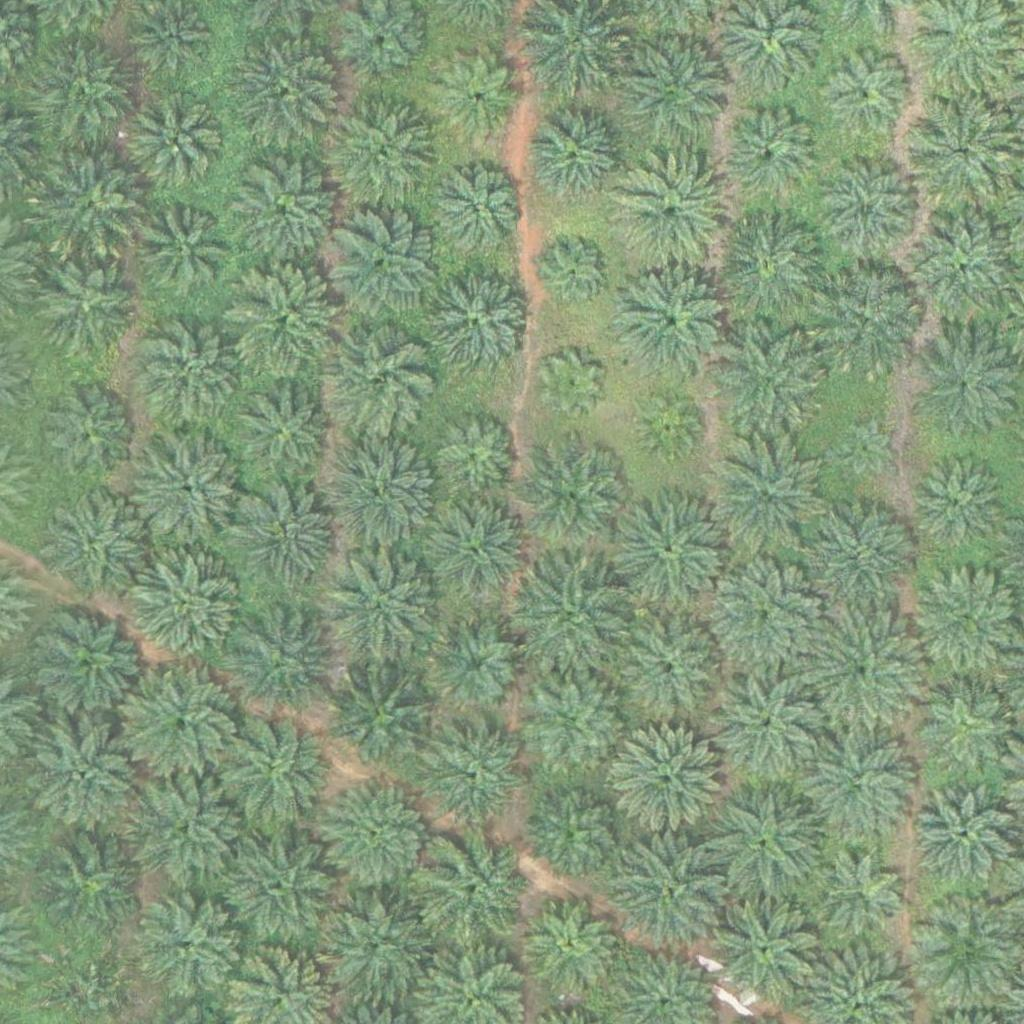Kelapa_Sawit: (910, 333, 1023, 447), (329, 661, 442, 775), (37, 486, 150, 600), (214, 713, 327, 827), (321, 779, 434, 893), (419, 832, 532, 946), (233, 39, 346, 152), (228, 158, 341, 271), (522, 96, 635, 209), (614, 158, 727, 271), (903, 95, 1016, 208), (908, 214, 1021, 327), (707, 435, 820, 548), (711, 558, 824, 671), (616, 269, 729, 382), (613, 495, 726, 608), (321, 324, 434, 437), (325, 437, 438, 550), (326, 552, 439, 665), (226, 262, 339, 375), (228, 382, 341, 495), (29, 607, 142, 720), (28, 722, 141, 835), (31, 828, 144, 941), (317, 892, 430, 1005), (613, 725, 726, 838), (706, 670, 819, 783), (709, 784, 822, 897), (710, 889, 823, 1002), (619, 31, 731, 145), (716, 99, 828, 213), (810, 268, 922, 382), (713, 211, 825, 325), (224, 601, 336, 715), (134, 432, 246, 546), (130, 553, 242, 667), (34, 46, 146, 159), (323, 96, 435, 209), (911, 566, 1023, 679), (805, 500, 917, 613), (807, 613, 919, 726), (716, 324, 828, 437), (613, 614, 725, 727), (517, 441, 629, 554), (516, 563, 628, 676), (425, 268, 537, 381), (419, 499, 531, 612), (325, 209, 437, 322), (229, 484, 341, 597), (135, 316, 247, 429), (31, 150, 143, 263), (125, 668, 237, 781), (130, 772, 242, 885), (131, 890, 243, 1003), (226, 831, 338, 944), (611, 838, 723, 951), (801, 731, 913, 844), (126, 91, 226, 192), (427, 616, 527, 717), (132, 200, 232, 301), (527, 671, 627, 772), (528, 781, 628, 882), (812, 849, 912, 950), (916, 671, 1016, 772), (912, 782, 1012, 883), (819, 160, 919, 260), (907, 452, 1007, 552), (35, 259, 135, 359), (36, 389, 136, 489), (430, 721, 530, 821), (526, 896, 626, 996), (434, 169, 522, 257), (431, 409, 519, 497), (434, 53, 521, 141), (825, 50, 912, 138), (637, 396, 700, 459), (545, 242, 608, 305), (540, 353, 603, 416), (834, 416, 896, 479)
